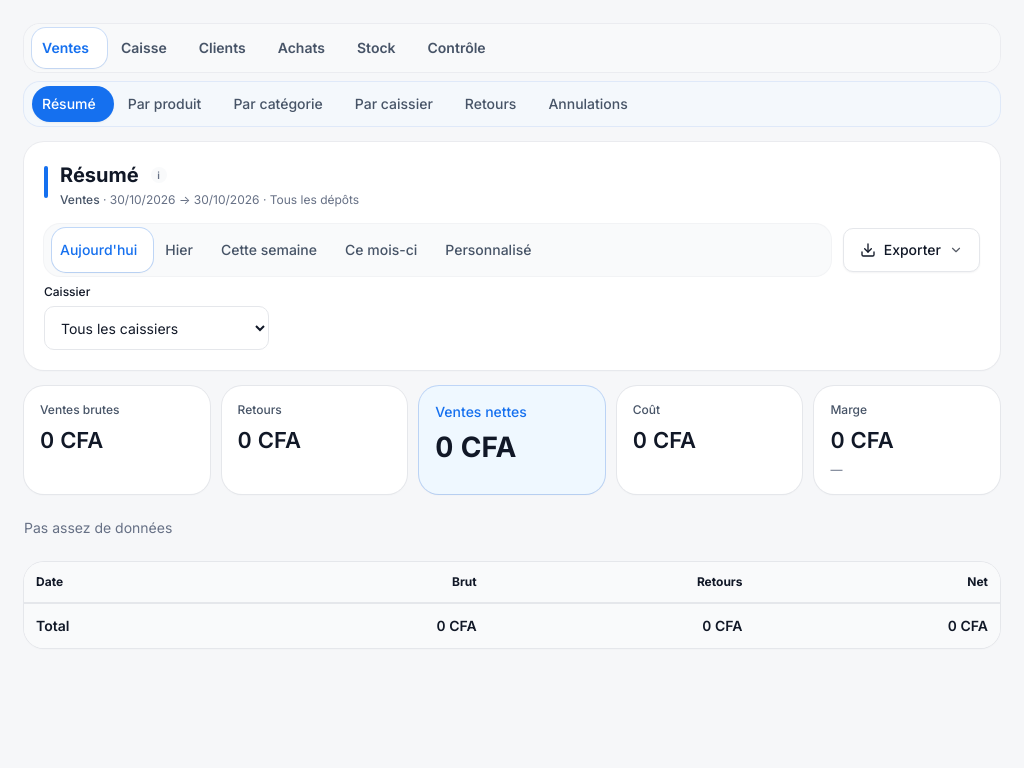
Test case: CEO Notes — ReportsPage cost tab › includes Cost tab and renders ReportCostTab content
The image size is (1024, 768).
Click the tab "Stock".
click(376, 48)  # box top-left (343, 28), bottom-right (410, 68)
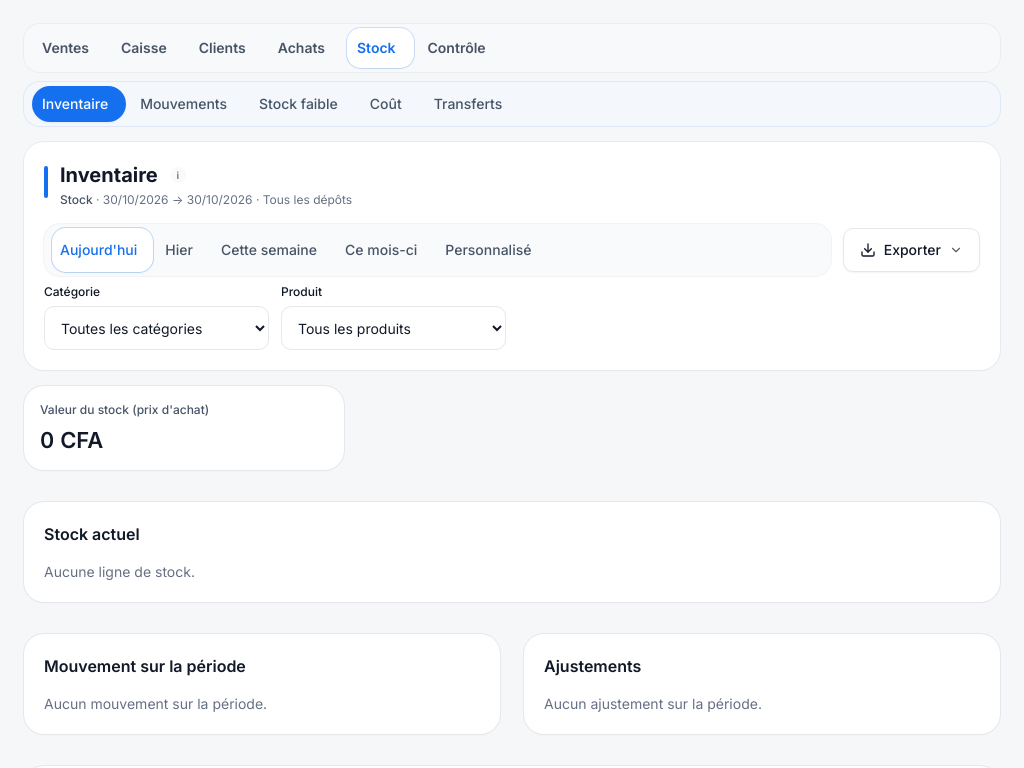
Click the tab "Coût".
click(386, 104)  # box top-left (356, 86), bottom-right (416, 122)
(page scrolled)
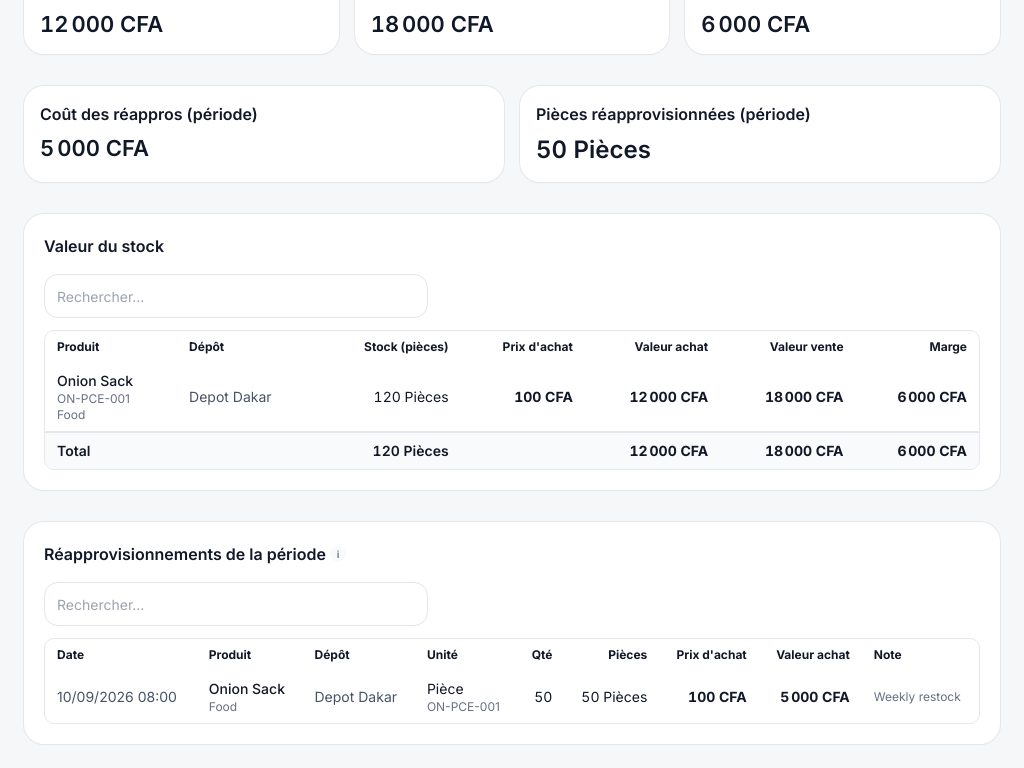
Expected: the text "Weekly restock" is shown, top-left (862, 671), bottom-right (979, 723)
